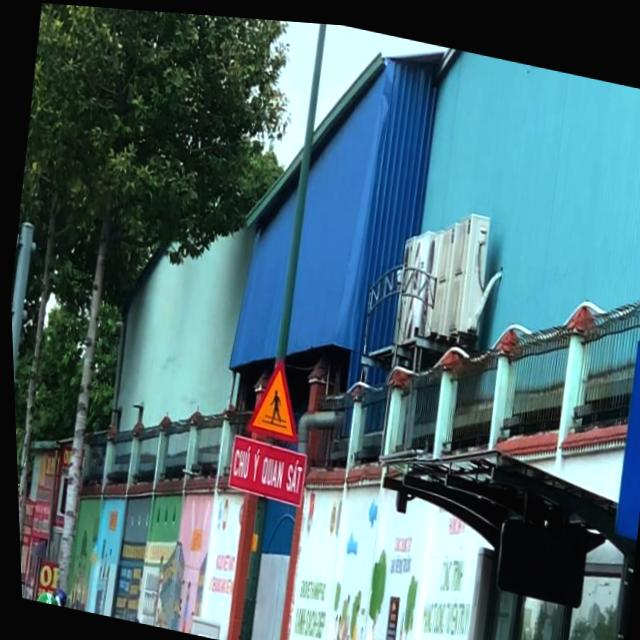Nguoi di bo cat ngang: (237, 346, 306, 442)
